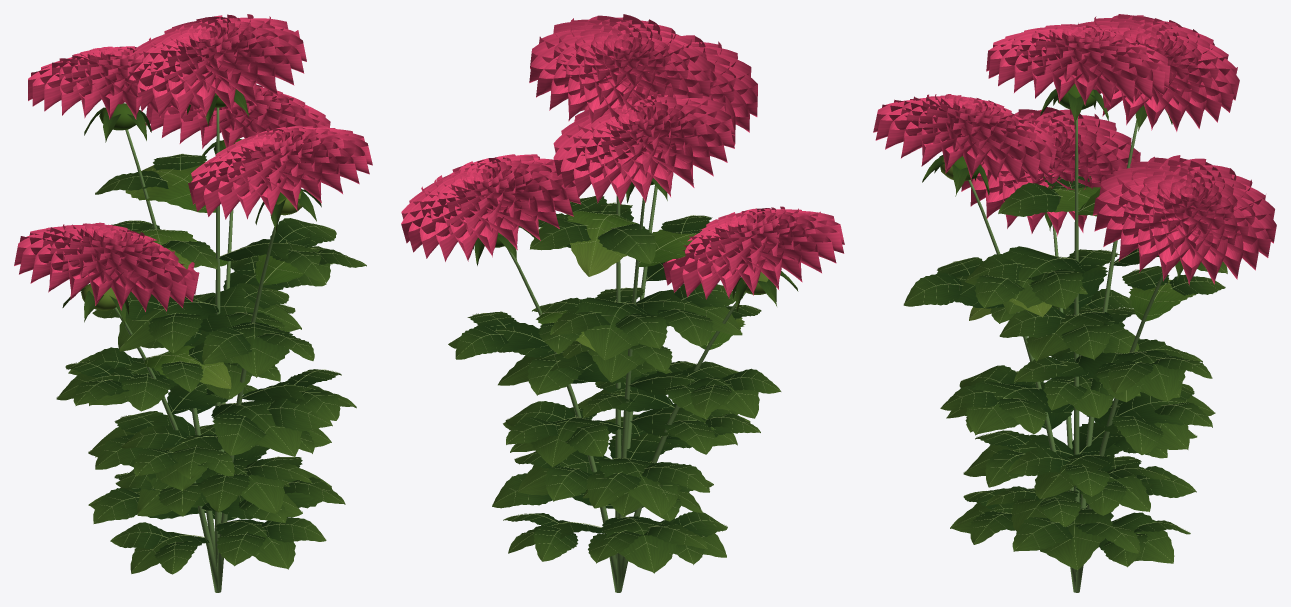
The model's file is dahlia-10.glb.
3 views of the same model, side by side, from view 1: azimuth 30°, elevation 25°; view 2: azimuth 150°, elevation 25°; view 3: azimuth 270°, elevation 25° (orthographic).
Visible parts, largest first — view 1: dahlia_stage_10_leaf_veins.018, dahlia_stage_10_dahlia_petal.018, dahlia_stage_10_young_leaf.018, dahlia_stage_10_raised_midveins.018, dahlia_stage_10_stem_fibres.018; view 2: dahlia_stage_10_leaf_veins.018, dahlia_stage_10_dahlia_petal.018, dahlia_stage_10_raised_midveins.018, dahlia_stage_10_young_leaf.018, dahlia_stage_10_stem_fibres.018; view 3: dahlia_stage_10_leaf_veins.018, dahlia_stage_10_dahlia_petal.018, dahlia_stage_10_raised_midveins.018, dahlia_stage_10_stem_fibres.018, dahlia_stage_10_young_leaf.018.
Boxes of the visible parts, left/top/right/bottom form: dahlia_stage_10_leaf_veins.018: left=56, top=89, right=366, bottom=574; dahlia_stage_10_dahlia_petal.018: left=14, top=14, right=372, bottom=311; dahlia_stage_10_young_leaf.018: left=81, top=93, right=334, bottom=388; dahlia_stage_10_raised_midveins.018: left=57, top=153, right=364, bottom=571; dahlia_stage_10_stem_fibres.018: left=114, top=107, right=278, bottom=592; dahlia_stage_10_leaf_veins.018: left=448, top=178, right=798, bottom=573; dahlia_stage_10_dahlia_petal.018: left=401, top=14, right=844, bottom=299; dahlia_stage_10_raised_midveins.018: left=449, top=197, right=779, bottom=571; dahlia_stage_10_young_leaf.018: left=495, top=181, right=768, bottom=351; dahlia_stage_10_stem_fibres.018: left=507, top=185, right=745, bottom=592; dahlia_stage_10_leaf_veins.018: left=903, top=89, right=1227, bottom=570; dahlia_stage_10_dahlia_petal.018: left=873, top=14, right=1276, bottom=284; dahlia_stage_10_raised_midveins.018: left=904, top=172, right=1226, bottom=569; dahlia_stage_10_stem_fibres.018: left=968, top=117, right=1163, bottom=592; dahlia_stage_10_young_leaf.018: left=940, top=83, right=1196, bottom=321.
Size of the model in its own units: 0.495 by 0.7441 by 0.4865.
5 materials, 3 textured.
